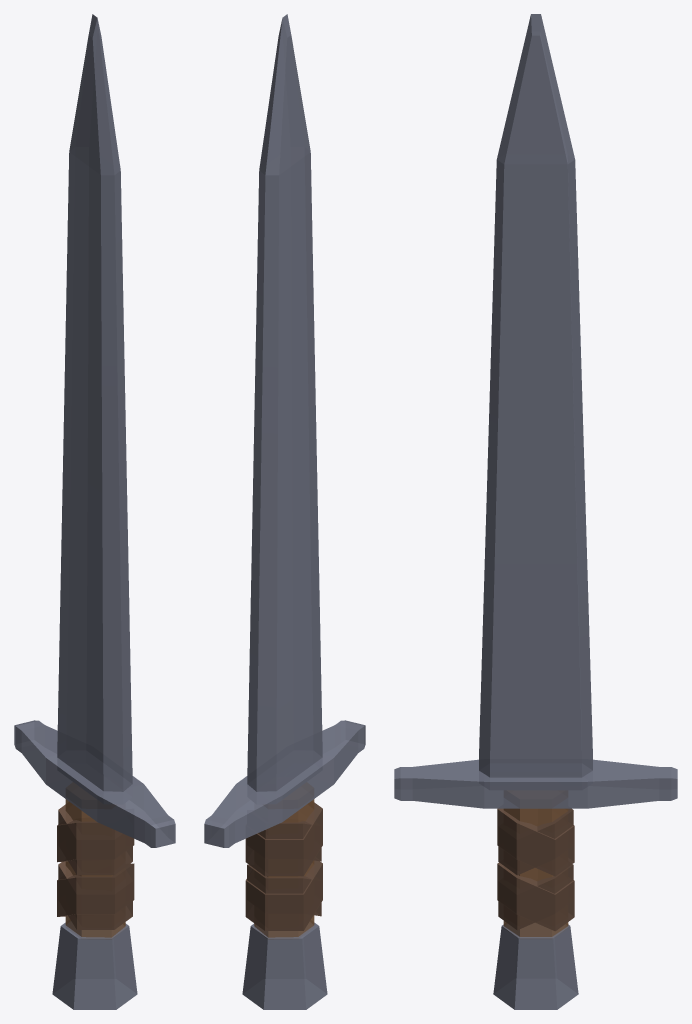
File: Sword.fbx
3 renders of one model, left to right at view 1: azimuth 30°, elevation 25°; view 2: azimuth 150°, elevation 25°; view 3: azimuth 270°, elevation 25°, orthographic.
Parts seen in each view (by area): view 1: S_Sword; view 2: S_Sword; view 3: S_Sword.
Part boxes in pixels (bbox=[...]): S_Sword: bbox=[14, 14, 175, 1009]; S_Sword: bbox=[204, 14, 365, 1009]; S_Sword: bbox=[394, 14, 677, 1009].
Size of the model in its own units: 8.85 by 130 by 33.91.
